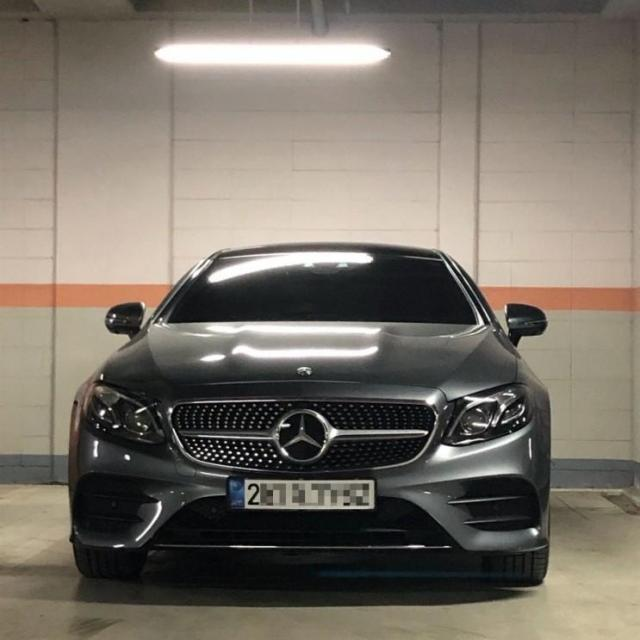car: (65, 222, 561, 603)
illegal_plate: (227, 474, 377, 520)
